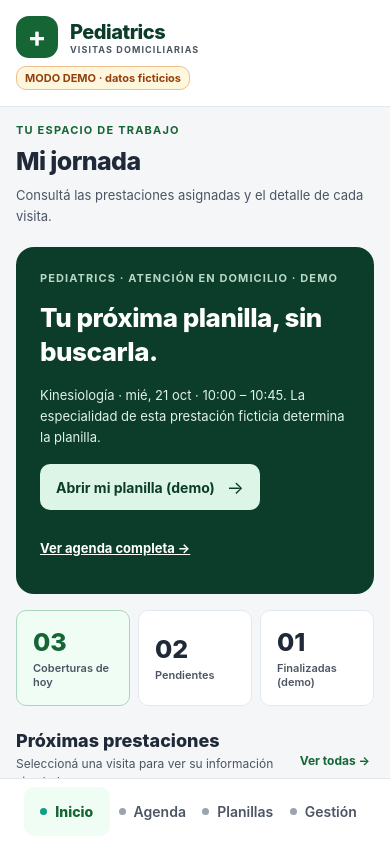
Test: HC-03B: verified-source form previews only › phone selecting medical sheet shows verified field placeholders, no form inputs or sign actions
Click the tab "Planillas" at x=238, y=812, box [202,803,273,820]
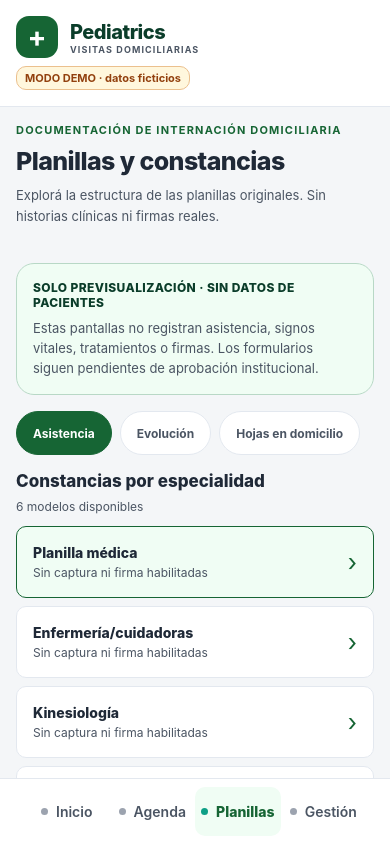
Click the button with aria-label "Ver estructura de Planilla médica" at x=195, y=562, box [16,526,374,598]
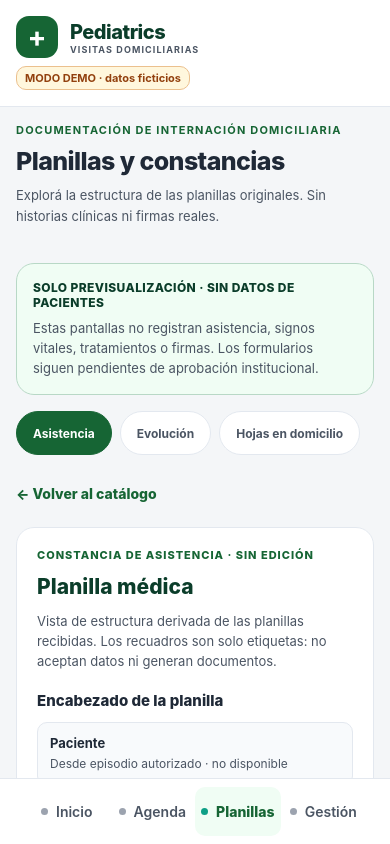
Click the button with aria-label "Volver al catálogo de planillas" at x=86, y=493, box [16,471,157,515]
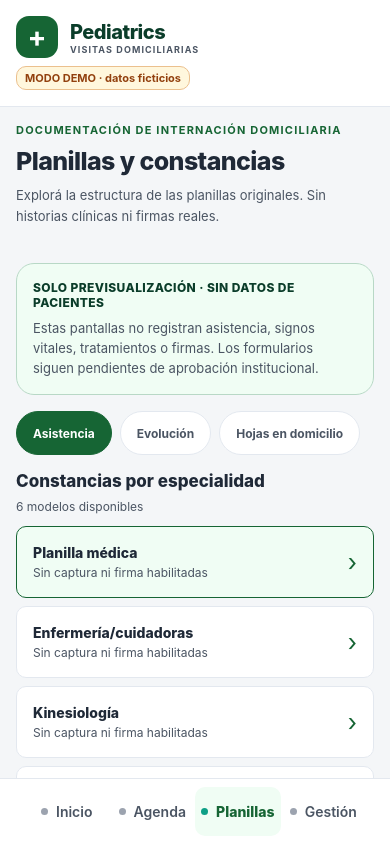
Expected: the text "6 modelos disponibles" is shown, [16,499,143,514]
